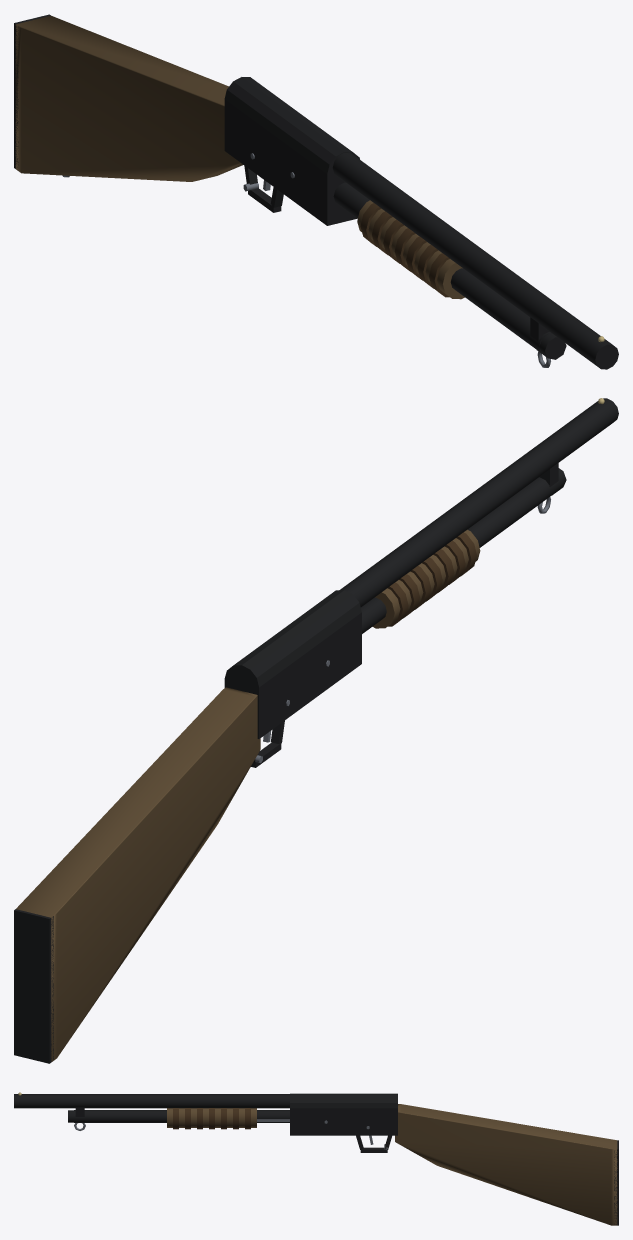
The model's file is ithaca-37-pump-action.glb.
3 renders of one model, top to bottom at view 1: azimuth 30°, elevation 25°; view 2: azimuth 150°, elevation 25°; view 3: azimuth 270°, elevation 25°, orthographic. The views are drawn at different scales.
Visible parts, largest first — view 1: Mesh_Buttstock, Mesh_Receiver, Mesh_Barrel, Mesh_MagTube, Mesh_ForendBase, Mesh_Buttplate, Mesh_MagCap; view 2: Mesh_Buttstock, Mesh_Receiver, Mesh_Barrel, Mesh_Buttplate, Mesh_MagTube, Mesh_ForendBase; view 3: Mesh_Buttstock, Mesh_Receiver, Mesh_Barrel, Mesh_MagTube, Mesh_ForendBase, Mesh_Buttplate.
Part boxes in pixels (x1=…): Mesh_Buttstock: x1=15, y1=15, x2=243, y2=181; Mesh_Receiver: x1=224, y1=77, x2=359, y2=225; Mesh_Barrel: x1=332, y1=152, x2=618, y2=369; Mesh_MagTube: x1=333, y1=182, x2=551, y2=352; Mesh_ForendBase: x1=357, y1=200, x2=464, y2=299; Mesh_Buttplate: x1=14, y1=14, x2=50, y2=170; Mesh_MagCap: x1=536, y1=333, x2=566, y2=359; Mesh_Buttstock: x1=16, y1=687, x2=260, y2=1061; Mesh_Receiver: x1=224, y1=590, x2=361, y2=738; Mesh_Barrel: x1=339, y1=398, x2=618, y2=607; Mesh_Buttplate: x1=14, y1=909, x2=53, y2=1063; Mesh_MagTube: x1=361, y1=477, x2=560, y2=633; Mesh_ForendBase: x1=372, y1=529, x2=480, y2=628; Mesh_Buttstock: x1=395, y1=1104, x2=617, y2=1225; Mesh_Receiver: x1=290, y1=1093, x2=397, y2=1135; Mesh_Barrel: x1=14, y1=1094, x2=289, y2=1108; Mesh_MagTube: x1=74, y1=1110, x2=289, y2=1122; Mesh_ForendBase: x1=167, y1=1108, x2=256, y2=1127; Mesh_Buttplate: x1=614, y1=1140, x2=618, y2=1225.
Bounding box in the file's own units: 0.043 × 0.236 × 1.01.
Materials: 1 (1 with a texture image).
